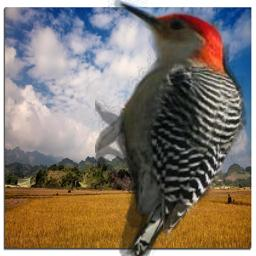Woodpecker: (95, 0, 247, 256)
